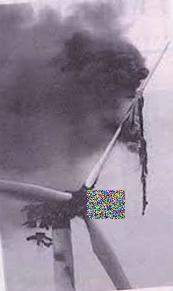faulty: (14, 144, 85, 243)
